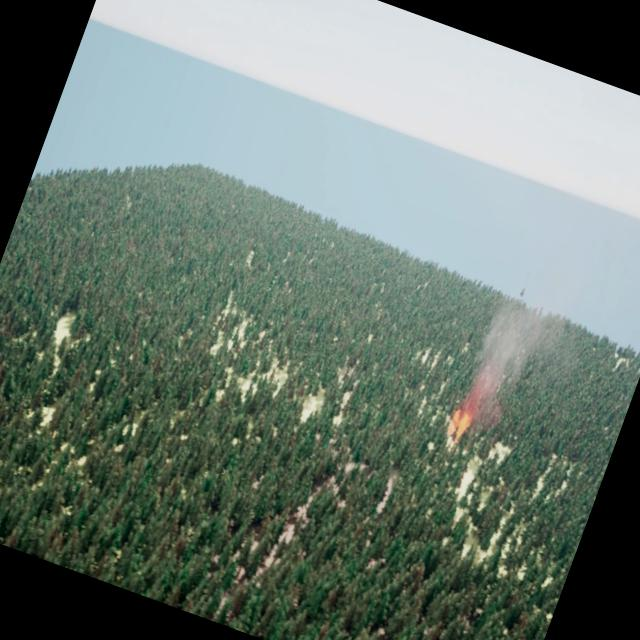fire: (442, 402, 475, 447)
smoke: (464, 276, 576, 426)
